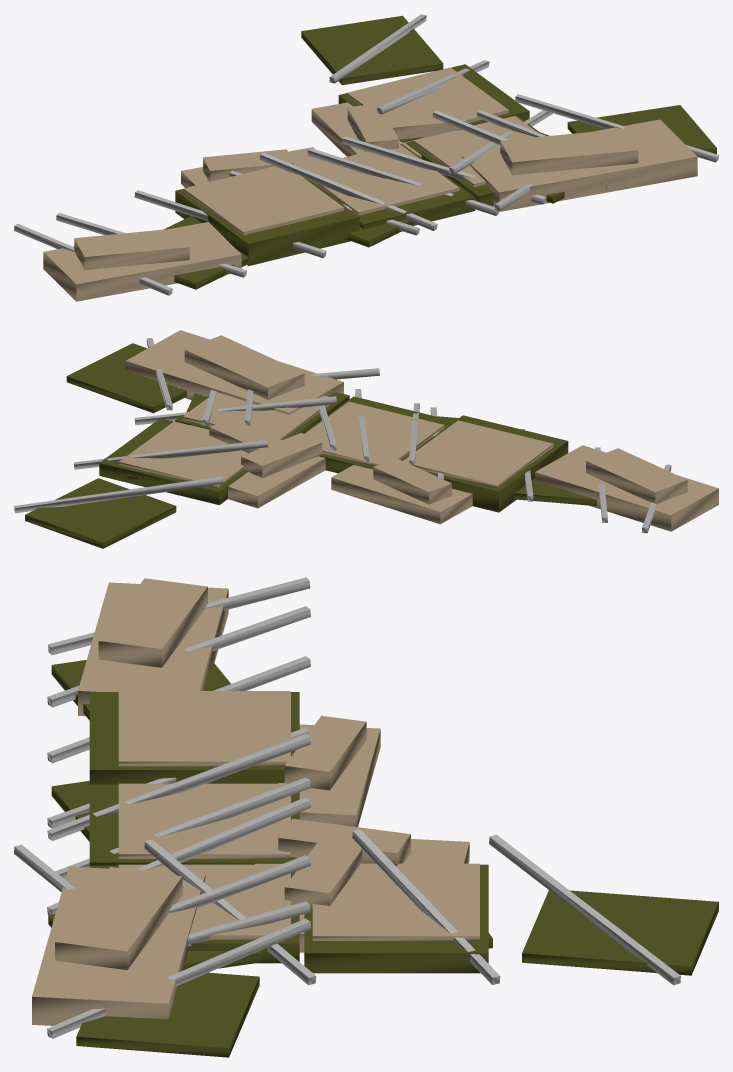
The model's file is SM_HescoRemateEspejo_v1_Geotextil_e3_Brecha_LOD0.fbx.
3 renders of one model, top to bottom at view 1: azimuth 30°, elevation 25°; view 2: azimuth 150°, elevation 25°; view 3: azimuth 270°, elevation 25°, orthographic. The views are drawn at different scales.
Parts seen in each view (by area): view 1: SM_hesco_piezas_v27_LOD0; view 2: SM_hesco_piezas_v27_LOD0; view 3: SM_hesco_piezas_v27_LOD0.
Part boxes in pixels (x1,y1,x2,y2): SM_hesco_piezas_v27_LOD0: (14,14,718,301); SM_hesco_piezas_v27_LOD0: (14,330,718,548); SM_hesco_piezas_v27_LOD0: (14,577,718,1057).
Bounding box in the file's own units: 6.23 × 0.3263 × 4.09.
